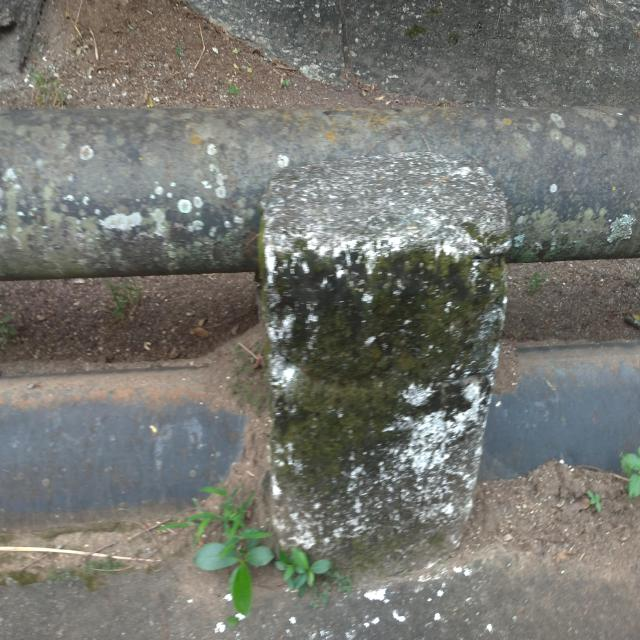gas: (1, 105, 640, 264)
